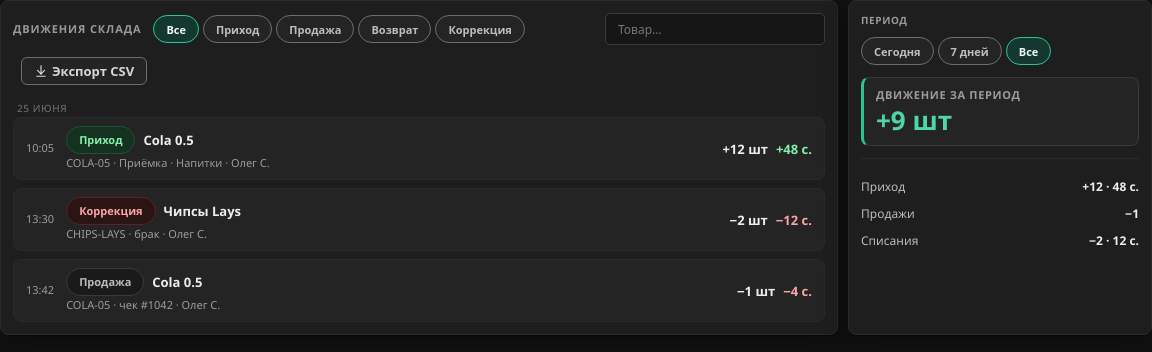
Test case: JournalWorkspace › пустой отбор снимается «Сбросить фильтр»
Type "нет такого" into the search field with placeholder "Товар…". click: x=715, y=29
box: top-left (616, 20), bottom-right (814, 38)
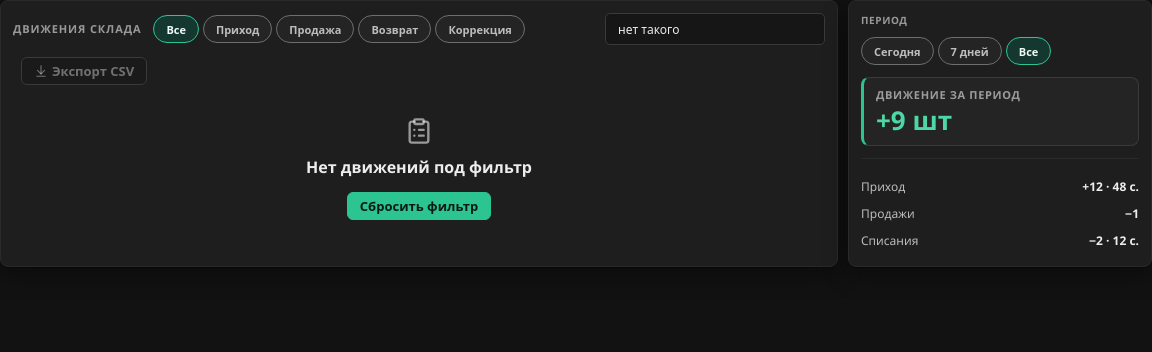
Check: the heading "Нет движений под фильтр" is shown, box top-left (306, 156), bottom-right (532, 178)
Click the button "Сбросить фильтр". click: x=419, y=206
box: top-left (347, 192), bottom-right (491, 220)
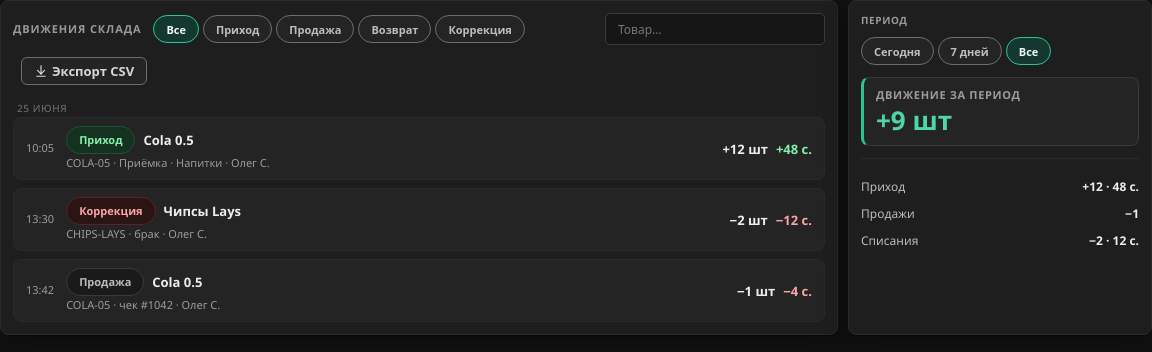
Check: the text "Чипсы Lays" is shown, box top-left (164, 202), bottom-right (241, 220)
